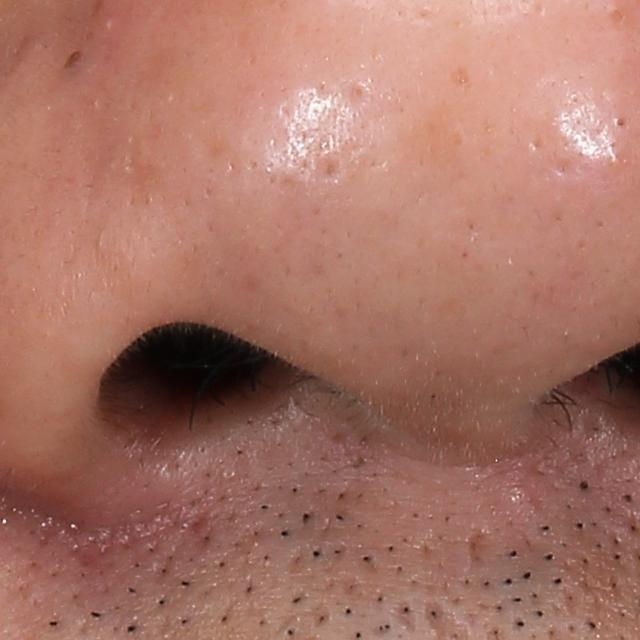atrophic_scar: (462, 527, 503, 587), (390, 600, 418, 638)
comedo: (610, 114, 628, 129)
